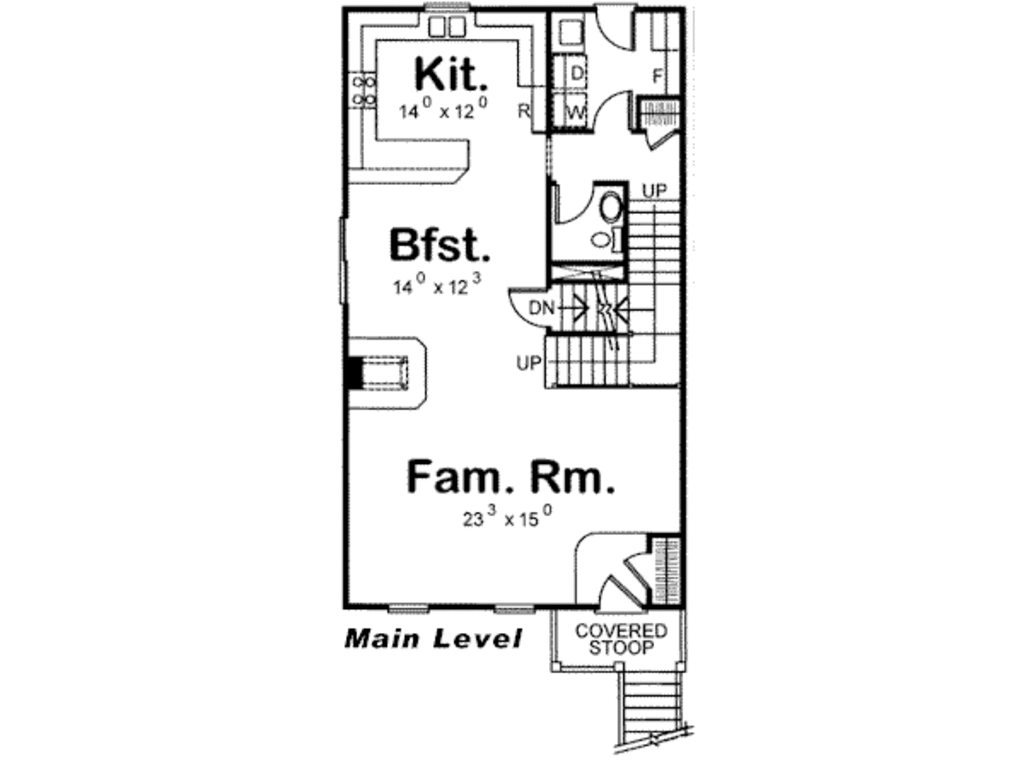door: (550, 176, 599, 230), (598, 573, 649, 622), (591, 84, 635, 140), (595, 4, 644, 54), (501, 286, 550, 333), (625, 546, 659, 590), (644, 126, 679, 154)
large_sink: (587, 223, 625, 253)
small_sink: (598, 187, 620, 228)
stairs: (626, 181, 695, 390), (540, 273, 628, 387), (612, 663, 700, 756)
twin_sink: (421, 12, 481, 45)
window: (492, 601, 539, 617), (379, 598, 431, 612)
